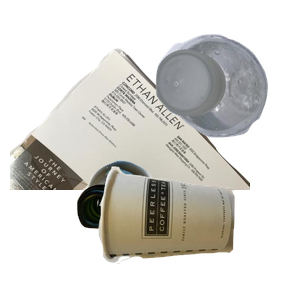glass: (74, 158, 223, 300)
paper: (10, 46, 250, 226)
plastic: (153, 31, 300, 161)
trash: (95, 164, 300, 300)
